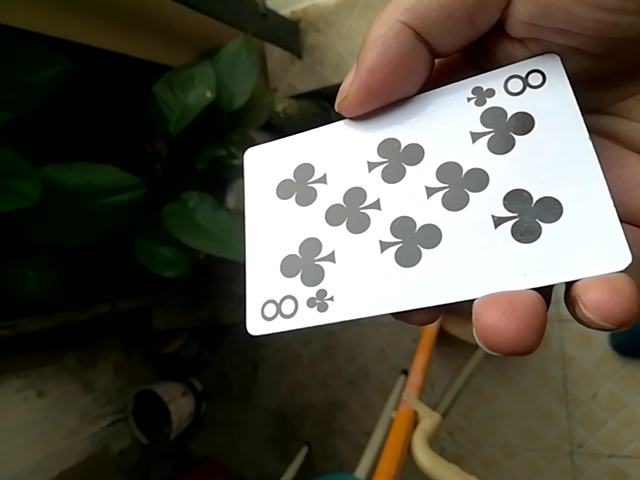mh 8: (229, 51, 633, 330)
